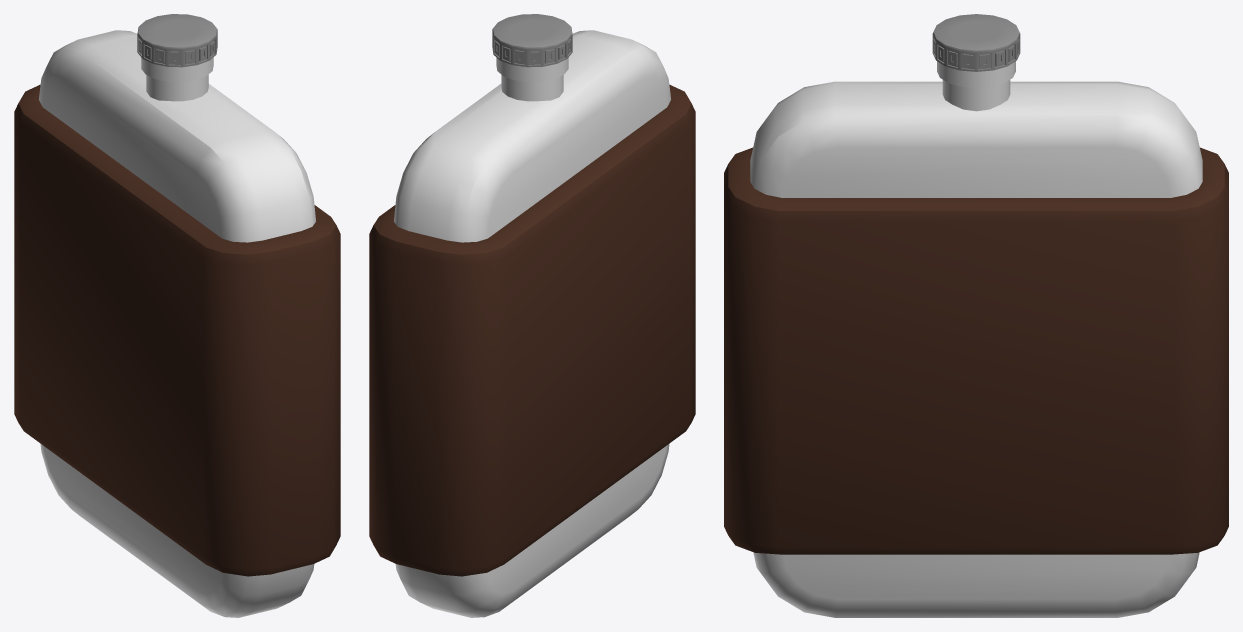
File: flask.fbx
3 renders of one model, left to right at view 1: azimuth 30°, elevation 25°; view 2: azimuth 150°, elevation 25°; view 3: azimuth 270°, elevation 25°, orthographic. The views are drawn at different scales.
Visible parts, largest first — view 1: Cube.007, Cylinder.006; view 2: Cube.007, Cylinder.006; view 3: Cube.007, Cylinder.006.
Part boxes in pixels (left/top/right/bottom): Cube.007: left=14, top=30, right=340, bottom=617; Cylinder.006: left=137, top=14, right=217, bottom=101; Cube.007: left=369, top=30, right=695, bottom=617; Cylinder.006: left=492, top=14, right=572, bottom=101; Cube.007: left=724, top=81, right=1228, bottom=617; Cylinder.006: left=932, top=14, right=1020, bottom=111.
Size of the model in its own units: 58.55 by 225 by 179.
